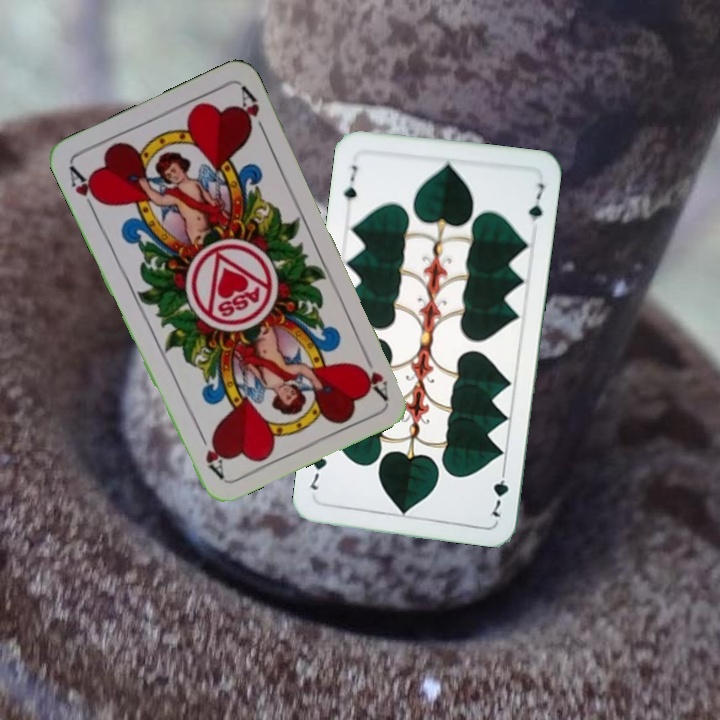G7: (486, 463, 511, 520), (340, 161, 361, 203)
HA: (65, 162, 105, 217), (356, 345, 391, 402)
